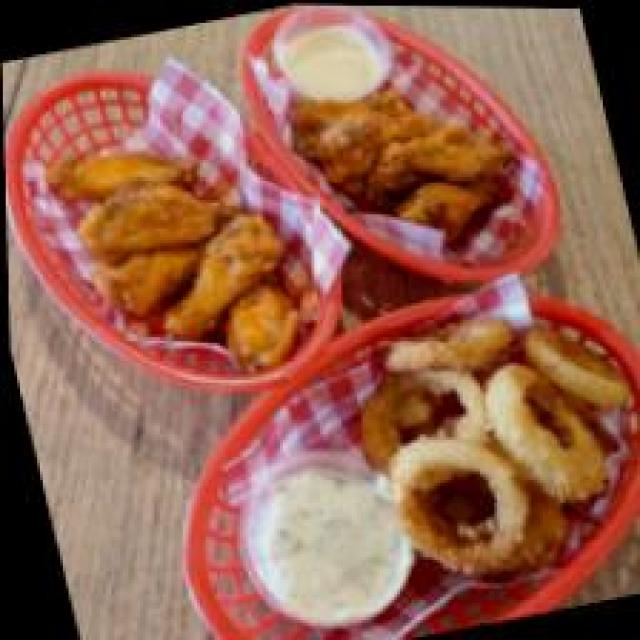Chicken Wings: (16, 4, 576, 404)
Onion Rings: (323, 290, 640, 604)
